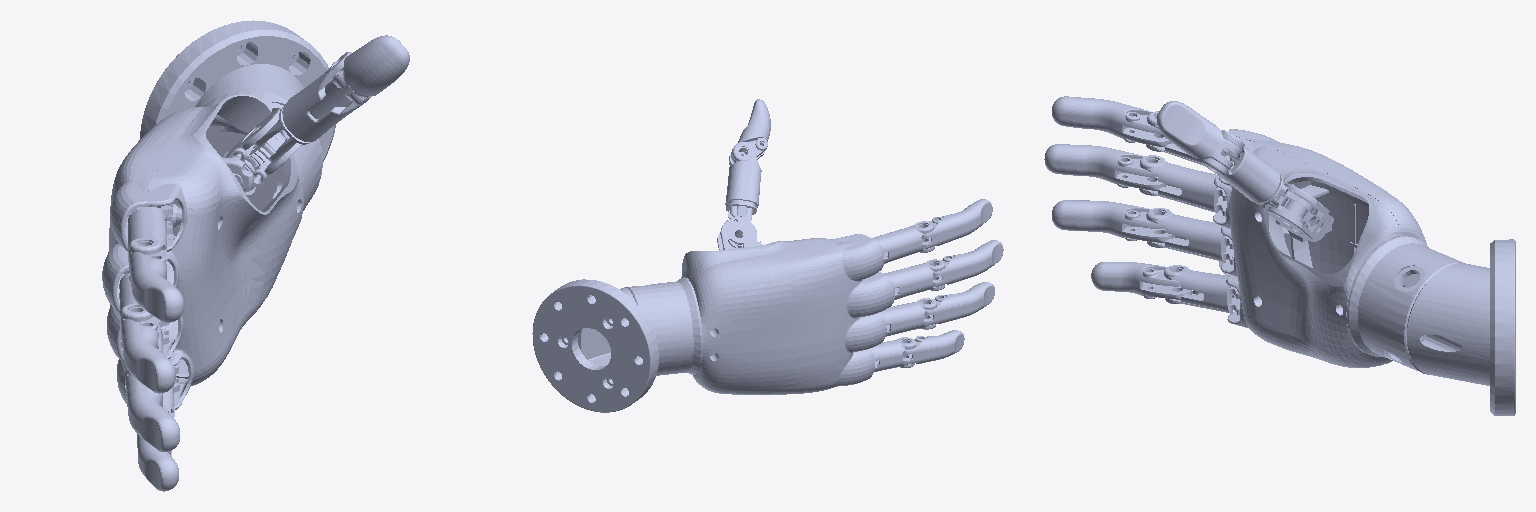
URDF robot description (aubo_i5_mechhand):
<?xml version='1.0' encoding='utf-8'?>
<robot name="aubo_i5_mechhand">
  <link name="base_link">
    <inertial>
      <origin xyz="-1.4795E-13 0.0015384 0.020951" rpy="0 0 0" />
      <mass value="0.83419" />
      <inertia ixx="0.0014414" ixy="7.8809E-15" ixz="8.5328E-16" iyy="0.0013542" iyz="-1.4364E-05" izz="0.0024659" />
    </inertial>
    <visual>
      <origin xyz="0 0 0" rpy="0 0 0" />
      <geometry>
        <mesh filename="package://aubo_description/meshes/aubo_i5/visual/base_link.DAE" />
      </geometry>
      <material name="">
        <color rgba="1 1 1 1" />
      </material>
    </visual>
    <collision>
      <origin xyz="0 0 0" rpy="0 0 0" />
      <geometry>
        <mesh filename="package://aubo_description/meshes/aubo_i5/collision/base_link.STL" />
      </geometry>
    </collision>
  </link>
  <link name="shoulder_Link">
    <inertial>
      <origin xyz="3.2508868974735E-07 0.00534955349296065 -0.00883689325611056" rpy="0 0 0" />
      <mass value="1.57658348693929" />
      <inertia ixx="0.0040640448663128" ixy="0" ixz="0" iyy="0.00392863238466817" iyz="-0.000160151642851425" izz="0.0030869857349184" />
    </inertial>
    <visual>
      <origin xyz="0 0 0" rpy="0 0 0" />
      <geometry>
        <mesh filename="package://aubo_description/meshes/aubo_i5/visual/shoulder_Link.DAE" />
      </geometry>
      <material name="">
        <color rgba="1 1 1 1" />
      </material>
    </visual>
    <collision>
      <origin xyz="0 0 0" rpy="0 0 0" />
      <geometry>
        <mesh filename="package://aubo_description/meshes/aubo_i5/collision/shoulder_Link.STL" />
      </geometry>
    </collision>
  </link>
  <joint name="shoulder_joint" type="revolute">
    <origin xyz="0 0 0.122" rpy="0 0 3.1416" />
    <parent link="base_link" />
    <child link="shoulder_Link" />
    <axis xyz="0 0 1" />
    <limit lower="-3.05" upper="3.05" effort="150" velocity="3.14" />
  </joint>
  <link name="upperArm_Link">
    <inertial>
      <origin xyz="0.203996646979614 2.01304585036544E-10 0.0127641545395984" rpy="0 0 0" />
      <mass value="4.04175782265494" />
      <inertia ixx="0.00965399211106204" ixy="0" ixz="0" iyy="0.144993869035655" iyz="0" izz="0.142607184038966" />
    </inertial>
    <visual>
      <origin xyz="0 0 0" rpy="0 0 0" />
      <geometry>
        <mesh filename="package://aubo_description/meshes/aubo_i5/visual/upperArm_Link.DAE" />
      </geometry>
      <material name="">
        <color rgba="1 1 1 1" />
      </material>
    </visual>
    <collision>
      <origin xyz="0 0 0" rpy="0 0 0" />
      <geometry>
        <mesh filename="package://aubo_description/meshes/aubo_i5/collision/upperArm_Link.STL" />
      </geometry>
    </collision>
  </link>
  <joint name="upperArm_joint" type="revolute">
    <origin xyz="0 0.1215 0" rpy="-1.5708 -1.5708 0" />
    <parent link="shoulder_Link" />
    <child link="upperArm_Link" />
    <axis xyz="0 0 1" />
    <limit lower="-3.05" upper="3.05" effort="150" velocity="3.14" />
  </joint>
  <link name="foreArm_Link">
    <inertial>
      <origin xyz="0.188922115560337 6.78882434739072E-07 0.0981026740461557" rpy="0 0 0" />
      <mass value="2.27145669098343" />
      <inertia ixx="0.00214322284946289" ixy="0" ixz="-0.00073120631553383" iyy="0.0443926090878205" iyz="0" izz="0.0441273797128365" />
    </inertial>
    <visual>
      <origin xyz="0 0 0" rpy="0 0 0" />
      <geometry>
        <mesh filename="package://aubo_description/meshes/aubo_i5/visual/foreArm_Link.DAE" />
      </geometry>
      <material name="">
        <color rgba="1 1 1 1" />
      </material>
    </visual>
    <collision>
      <origin xyz="0 0 0" rpy="0 0 0" />
      <geometry>
        <mesh filename="package://aubo_description/meshes/aubo_i5/collision/foreArm_Link.STL" />
      </geometry>
    </collision>
  </link>
  <joint name="foreArm_joint" type="revolute">
    <origin xyz="0.408 0 0" rpy="-3.1416 -5.1632E-18 -5.459E-16" />
    <parent link="upperArm_Link" />
    <child link="foreArm_Link" />
    <axis xyz="0 0 1" />
    <limit lower="-3.05" upper="3.05" effort="150" velocity="3.14" />
  </joint>
  <link name="wrist1_Link">
    <inertial>
      <origin xyz="7.54205137428592E-07 0.0062481254331257 -0.00392367464072373" rpy="0 0 0" />
      <mass value="0.500477539188764" />
      <inertia ixx="0.00071194605962081" ixy="0" ixz="0" iyy="0.00040588242872958" iyz="-2.30808694377512E-05" izz="0.000685574004861334" />
    </inertial>
    <visual>
      <origin xyz="0 0 0" rpy="0 0 0" />
      <geometry>
        <mesh filename="package://aubo_description/meshes/aubo_i5/visual/wrist1_Link.DAE" />
      </geometry>
      <material name="">
        <color rgba="1 1 1 1" />
      </material>
    </visual>
    <collision>
      <origin xyz="0 0 0" rpy="0 0 0" />
      <geometry>
        <mesh filename="package://aubo_description/meshes/aubo_i5/collision/wrist1_Link.STL" />
      </geometry>
    </collision>
  </link>
  <joint name="wrist1_joint" type="revolute">
    <origin xyz="0.376 0 0" rpy="3.1416 -1.8323E-15 1.5708" />
    <parent link="foreArm_Link" />
    <child link="wrist1_Link" />
    <axis xyz="0 0 1" />
    <limit lower="-3.05" upper="3.05" effort="150" velocity="3.14" />
  </joint>
  <link name="wrist2_Link">
    <inertial>
      <origin xyz="-7.54207620578635E-07 -0.00624812542617262 -0.00392367464115684" rpy="0 0 0" />
      <mass value="0.500477539245988" />
      <inertia ixx="0.00071194605981829" ixy="0" ixz="0" iyy="0.000405882428755442" iyz="2.30808694515886E-05" izz="0.000685574005112107" />
    </inertial>
    <visual>
      <origin xyz="0 0 0" rpy="0 0 0" />
      <geometry>
        <mesh filename="package://aubo_description/meshes/aubo_i5/visual/wrist2_Link.DAE" />
      </geometry>
      <material name="">
        <color rgba="1 1 1 1" />
      </material>
    </visual>
    <collision>
      <origin xyz="0 0 0" rpy="0 0 0" />
      <geometry>
        <mesh filename="package://aubo_description/meshes/aubo_i5/collision/wrist2_Link.STL" />
      </geometry>
    </collision>
  </link>
  <joint name="wrist2_joint" type="revolute">
    <origin xyz="0 0.1025 0" rpy="-1.5708 -1.8709E-15 -1.6653E-16" />
    <parent link="wrist1_Link" />
    <child link="wrist2_Link" />
    <axis xyz="0 0 1" />
    <limit lower="-3.05" upper="3.05" effort="150" velocity="3.14" />
  </joint>
  <link name="wrist3_Link">
    <inertial>
      <origin xyz="3.92048778449938E-10 0.000175788057281467 -0.0213294490706684" rpy="0 0 0" />
      <mass value="0.158309554874285" />
      <inertia ixx="7.31376196034769E-05" ixy="0" ixz="0" iyy="7.19528188876563E-05" iyz="0" izz="0.000108772439051422" />
    </inertial>
    <visual>
      <origin xyz="0 0 0" rpy="0 0 0" />
      <geometry>
        <mesh filename="package://aubo_description/meshes/aubo_i5/visual/wrist3_Link.DAE" />
      </geometry>
      <material name="">
        <color rgba="1 1 1 1" />
      </material>
    </visual>
    <collision>
      <origin xyz="0 0 0" rpy="0 0 0" />
      <geometry>
        <mesh filename="package://aubo_description/meshes/aubo_i5/collision/wrist3_Link.STL" />
      </geometry>
    </collision>
  </link>
  <joint name="wrist3_joint" type="revolute">
    <origin xyz="0 -0.094 0" rpy="1.5708 0 1.7907E-15" />
    <parent link="wrist2_Link" />
    <child link="wrist3_Link" />
    <axis xyz="0 0 1" />
    <limit lower="-3.05" upper="3.05" effort="150" velocity="3.14" />
  </joint>
  <link name="mechhand_base_link">
    <inertial>
      <origin xyz="-0.015063 -6.5722E-05 0.031292" rpy="0 0 0" />
      <mass value="0.069401" />
      <inertia ixx="2.3266E-05" ixy="7.9666E-07" ixz="2.1931E-06" iyy="2.0555E-05" iyz="-5.6916E-07" izz="3.0893E-05" />
    </inertial>
    <visual>
      <origin xyz="0 0 0" rpy="0 0 0" />
      <geometry>
        <mesh filename="package://MechHand_deg45_V2_URDF/meshes/base_link.STL" />
      </geometry>
      <material name="">
        <color rgba="0.79216 0.81961 0.93333 1" />
      </material>
    </visual>
    <collision>
      <origin xyz="0 0 0" rpy="0 0 0" />
      <geometry>
        <mesh filename="package://MechHand_deg45_V2_URDF/meshes/base_link.STL" />
      </geometry>
    </collision>
  </link>
  <link name="mechhand_F1_L1">
    <inertial>
      <origin xyz="-0.0039586 0.0036793 0.004467" rpy="0 0 0" />
      <mass value="0.0014107" />
      <inertia ixx="8.1067E-08" ixy="2.2203E-08" ixz="-3.8302E-09" iyy="7.3522E-08" iyz="4.1624E-09" izz="1.04E-07" />
    </inertial>
    <visual>
      <origin xyz="0 0 0" rpy="0 0 0" />
      <geometry>
        <mesh filename="package://MechHand_deg45_V2_URDF/meshes/F1_L1.STL" />
      </geometry>
      <material name="">
        <color rgba="0.79216 0.81961 0.93333 1" />
      </material>
    </visual>
    <collision>
      <origin xyz="0 0 0" rpy="0 0 0" />
      <geometry>
        <mesh filename="package://MechHand_deg45_V2_URDF/meshes/F1_L1.STL" />
      </geometry>
    </collision>
  </link>
  <joint name="mechhand_F1_J1" type="revolute">
    <origin xyz="-0.034849 0.023663 0.070578" rpy="0.78612 -0.041061 -1.5901" />
    <parent link="mechhand_base_link" />
    <child link="mechhand_F1_L1" />
    <axis xyz="0 0 1" />
    <limit lower="-3.1416" upper="3.1416" effort="5.0" velocity="3.0" />
  </joint>
  <link name="mechhand_F1_L2">
    <inertial>
      <origin xyz="0.019719 0.0054866 0.0059642" rpy="0 0 0" />
      <mass value="0.0031477" />
      <inertia ixx="1.1339E-07" ixy="-5.9344E-08" ixz="-7.1608E-12" iyy="3.9094E-07" iyz="-2.5455E-12" izz="3.9711E-07" />
    </inertial>
    <visual>
      <origin xyz="0 0 0" rpy="0 0 0" />
      <geometry>
        <mesh filename="package://MechHand_deg45_V2_URDF/meshes/F1_L2.STL" />
      </geometry>
      <material name="">
        <color rgba="0.79216 0.81961 0.93333 1" />
      </material>
    </visual>
    <collision>
      <origin xyz="0 0 0" rpy="0 0 0" />
      <geometry>
        <mesh filename="package://MechHand_deg45_V2_URDF/meshes/F1_L2.STL" />
      </geometry>
    </collision>
  </link>
  <joint name="mechhand_F1_J2" type="revolute">
    <origin xyz="-0.011988 0.0036468 0.00381" rpy="1.5708 -0.06091 2.3469" />
    <parent link="mechhand_F1_L1" />
    <child link="mechhand_F1_L2" />
    <axis xyz="0 0 1" />
    <limit lower="-3.1416" upper="3.1416" effort="5.0" velocity="3.0" />
  </joint>
  <link name="mechhand_F1_L3">
    <inertial>
      <origin xyz="0.010592 0.0077458 0.006601" rpy="0 0 0" />
      <mass value="0.0027429" />
      <inertia ixx="9.7739E-08" ixy="-6.3646E-08" ixz="8.1683E-12" iyy="1.8096E-07" iyz="-1.5923E-12" izz="2.0784E-07" />
    </inertial>
    <visual>
      <origin xyz="0 0 0" rpy="0 0 0" />
      <geometry>
        <mesh filename="package://MechHand_deg45_V2_URDF/meshes/F1_L3.STL" />
      </geometry>
      <material name="">
        <color rgba="0.79216 0.81961 0.93333 1" />
      </material>
    </visual>
    <collision>
      <origin xyz="0 0 0" rpy="0 0 0" />
      <geometry>
        <mesh filename="package://MechHand_deg45_V2_URDF/meshes/F1_L3.STL" />
      </geometry>
    </collision>
  </link>
  <joint name="mechhand_F1_J3" type="revolute">
    <origin xyz="0.039449 0.0081057 -0.0006" rpy="0 0 0" />
    <parent link="mechhand_F1_L2" />
    <child link="mechhand_F1_L3" />
    <axis xyz="0 0 1" />
    <limit lower="-3.1416" upper="3.1416" effort="5.0" velocity="3.0" />
  </joint>
  <link name="mechhand_F2_L1">
    <inertial>
      <origin xyz="0.01535 -0.0025396 0.0039829" rpy="0 0 0" />
      <mass value="0.0025565" />
      <inertia ixx="5.8289E-08" ixy="3.8292E-08" ixz="5.9035E-13" iyy="2.5708E-07" iyz="6.4758E-12" izz="2.4721E-07" />
    </inertial>
    <visual>
      <origin xyz="0 0 0" rpy="0 0 0" />
      <geometry>
        <mesh filename="package://MechHand_deg45_V2_URDF/meshes/F2_L1.STL" />
      </geometry>
      <material name="">
        <color rgba="0.79216 0.81961 0.93333 1" />
      </material>
    </visual>
    <collision>
      <origin xyz="0 0 0" rpy="0 0 0" />
      <geometry>
        <mesh filename="package://MechHand_deg45_V2_URDF/meshes/F2_L1.STL" />
      </geometry>
    </collision>
  </link>
  <joint name="mechhand_F2_J1" type="revolute">
    <origin xyz="-0.082731 0.030793 0.097776" rpy="-1.4859 -0.7819 3.0431" />
    <parent link="mechhand_base_link" />
    <child link="mechhand_F2_L1" />
    <axis xyz="0 0 -1" />
    <limit lower="-3.1416" upper="3.1416" effort="5.0" velocity="3.0" />
  </joint>
  <link name="mechhand_F2_L2">
    <inertial>
      <origin xyz="0.017888 -0.0070454 0.0060874" rpy="0 0 0" />
      <mass value="0.0032121" />
      <inertia ixx="1.2784E-07" ixy="1.4995E-07" ixz="-1.0416E-11" iyy="3.4885E-07" iyz="-2.062E-12" izz="4.2269E-07" />
    </inertial>
    <visual>
      <origin xyz="0 0 0" rpy="0 0 0" />
      <geometry>
        <mesh filename="package://MechHand_deg45_V2_URDF/meshes/F2_L2.STL" />
      </geometry>
      <material name="">
        <color rgba="0.79216 0.81961 0.93333 1" />
      </material>
    </visual>
    <collision>
      <origin xyz="0 0 0" rpy="0 0 0" />
      <geometry>
        <mesh filename="package://MechHand_deg45_V2_URDF/meshes/F2_L2.STL" />
      </geometry>
    </collision>
  </link>
  <joint name="mechhand_F2_J2" type="revolute">
    <origin xyz="0.034836 -0.0065719 -0.00214" rpy="0 0 0" />
    <parent link="mechhand_F2_L1" />
    <child link="mechhand_F2_L2" />
    <axis xyz="0 0 -1" />
    <limit lower="-3.1416" upper="3.1416" effort="5.0" velocity="3.0" />
  </joint>
  <link name="mechhand_F3_L1">
    <inertial>
      <origin xyz="0.01535 -0.0025396 0.0039829" rpy="0 0 0" />
      <mass value="0.0025565" />
      <inertia ixx="5.8288E-08" ixy="3.8292E-08" ixz="6.2125E-13" iyy="2.5708E-07" iyz="6.5466E-12" izz="2.4721E-07" />
    </inertial>
    <visual>
      <origin xyz="0 0 0" rpy="0 0 0" />
      <geometry>
        <mesh filename="package://MechHand_deg45_V2_URDF/meshes/F3_L1.STL" />
      </geometry>
      <material name="">
        <color rgba="0.79216 0.81961 0.93333 1" />
      </material>
    </visual>
    <collision>
      <origin xyz="0 0 0" rpy="0 0 0" />
      <geometry>
        <mesh filename="package://MechHand_deg45_V2_URDF/meshes/F3_L1.STL" />
      </geometry>
    </collision>
  </link>
  <joint name="mechhand_F3_J1" type="revolute">
    <origin xyz="-0.087072 0.013121 0.10038" rpy="-1.5322 -0.78477 3.1087" />
    <parent link="mechhand_base_link" />
    <child link="mechhand_F3_L1" />
    <axis xyz="0 0 -1" />
    <limit lower="-3.1416" upper="3.1416" effort="5.0" velocity="3.0" />
  </joint>
  <link name="mechhand_F3_L2">
    <inertial>
      <origin xyz="0.017888 -0.0070454 0.0060874" rpy="0 0 0" />
      <mass value="0.0032121" />
      <inertia ixx="1.2784E-07" ixy="1.4995E-07" ixz="-1.0439E-11" iyy="3.4885E-07" iyz="-2.0425E-12" izz="4.2269E-07" />
    </inertial>
    <visual>
      <origin xyz="0 0 0" rpy="0 0 0" />
      <geometry>
        <mesh filename="package://MechHand_deg45_V2_URDF/meshes/F3_L2.STL" />
      </geometry>
      <material name="">
        <color rgba="0.79216 0.81961 0.93333 1" />
      </material>
    </visual>
    <collision>
      <origin xyz="0 0 0" rpy="0 0 0" />
      <geometry>
        <mesh filename="package://MechHand_deg45_V2_URDF/meshes/F3_L2.STL" />
      </geometry>
    </collision>
  </link>
  <joint name="mechhand_F3_J2" type="revolute">
    <origin xyz="0.034836 -0.0065719 -0.00214" rpy="0 0 0" />
    <parent link="mechhand_F3_L1" />
    <child link="mechhand_F3_L2" />
    <axis xyz="0 0 -1" />
    <limit lower="-3.1416" upper="3.1416" effort="5.0" velocity="3.0" />
  </joint>
  <link name="mechhand_F4_L1">
    <inertial>
      <origin xyz="-0.01535 0.0025395 0.0039829" rpy="0 0 0" />
      <mass value="0.0025565" />
      <inertia ixx="5.8289E-08" ixy="3.8293E-08" ixz="-5.433E-13" iyy="2.5708E-07" iyz="-6.4736E-12" izz="2.4721E-07" />
    </inertial>
    <visual>
      <origin xyz="0 0 0" rpy="0 0 0" />
      <geometry>
        <mesh filename="package://MechHand_deg45_V2_URDF/meshes/F4_L1.STL" />
      </geometry>
      <material name="">
        <color rgba="0.79216 0.81961 0.93333 1" />
      </material>
    </visual>
    <collision>
      <origin xyz="0 0 0" rpy="0 0 0" />
      <geometry>
        <mesh filename="package://MechHand_deg45_V2_URDF/meshes/F4_L1.STL" />
      </geometry>
    </collision>
  </link>
  <joint name="mechhand_F4_J1" type="revolute">
    <origin xyz="-0.084217 -0.0045472 0.097909" rpy="1.5787 0.78549 0.032906" />
    <parent link="mechhand_base_link" />
    <child link="mechhand_F4_L1" />
    <axis xyz="0 0 -1" />
    <limit lower="-3.1416" upper="3.1416" effort="5.0" velocity="3.0" />
  </joint>
  <link name="mechhand_F4_L2">
    <inertial>
      <origin xyz="-0.017888 0.0070454 0.0060874" rpy="0 0 0" />
      <mass value="0.0032121" />
      <inertia ixx="1.2784E-07" ixy="1.4995E-07" ixz="9.9986E-12" iyy="3.4884E-07" iyz="2.0466E-12" izz="4.2269E-07" />
    </inertial>
    <visual>
      <origin xyz="0 0 0" rpy="0 0 0" />
      <geometry>
        <mesh filename="package://MechHand_deg45_V2_URDF/meshes/F4_L2.STL" />
      </geometry>
      <material name="">
        <color rgba="0.79216 0.81961 0.93333 1" />
      </material>
    </visual>
    <collision>
      <origin xyz="0 0 0" rpy="0 0 0" />
      <geometry>
        <mesh filename="package://MechHand_deg45_V2_URDF/meshes/F4_L2.STL" />
      </geometry>
    </collision>
  </link>
  <joint name="mechhand_F4_J2" type="revolute">
    <origin xyz="-0.034836 0.0065719 -0.00214" rpy="0 0 0" />
    <parent link="mechhand_F4_L1" />
    <child link="mechhand_F4_L2" />
    <axis xyz="0 0 -1" />
    <limit lower="-3.1416" upper="3.1416" effort="5.0" velocity="3.0" />
  </joint>
  <link name="mechhand_F5_L1">
    <inertial>
      <origin xyz="-0.015073 0.0025712 0.0039805" rpy="0 0 0" />
      <mass value="0.0019126" />
      <inertia ixx="2.1786E-08" ixy="2.3665E-08" ixz="6.8302E-12" iyy="1.4718E-07" iyz="-3.7826E-12" izz="1.5958E-07" />
    </inertial>
    <visual>
      <origin xyz="0 0 0" rpy="0 0 0" />
      <geometry>
        <mesh filename="package://MechHand_deg45_V2_URDF/meshes/F5_L1.STL" />
      </geometry>
      <material name="">
        <color rgba="0.79216 0.81961 0.93333 1" />
      </material>
    </visual>
    <collision>
      <origin xyz="0 0 0" rpy="0 0 0" />
      <geometry>
        <mesh filename="package://MechHand_deg45_V2_URDF/meshes/F5_L1.STL" />
      </geometry>
    </collision>
  </link>
  <joint name="mechhand_F5_J1" type="revolute">
    <origin xyz="-0.079656 -0.02214 0.095853" rpy="1.6252 0.78404 0.098667" />
    <parent link="mechhand_base_link" />
    <child link="mechhand_F5_L1" />
    <axis xyz="0 0 -1" />
    <limit lower="-3.1416" upper="3.1416" effort="5.0" velocity="3.0" />
  </joint>
  <link name="mechhand_F5_L2">
    <inertial>
      <origin xyz="-0.014507 0.0046646 0.0063" rpy="0 0 0" />
      <mass value="0.0021676" />
      <inertia ixx="6.0083E-08" ixy="6.2867E-08" ixz="3.1417E-12" iyy="1.9102E-07" iyz="-5.5636E-13" izz="2.1354E-07" />
    </inertial>
    <visual>
      <origin xyz="0 0 0" rpy="0 0 0" />
      <geometry>
        <mesh filename="package://MechHand_deg45_V2_URDF/meshes/F5_L2.STL" />
      </geometry>
      <material name="">
        <color rgba="0.79216 0.81961 0.93333 1" />
      </material>
    </visual>
    <collision>
      <origin xyz="0 0 0" rpy="0 0 0" />
      <geometry>
        <mesh filename="package://MechHand_deg45_V2_URDF/meshes/F5_L2.STL" />
      </geometry>
    </collision>
  </link>
  <joint name="mechhand_F5_J2" type="revolute">
    <origin xyz="-0.029945 0.0056487 -0.00202" rpy="0 0 0" />
    <parent link="mechhand_F5_L1" />
    <child link="mechhand_F5_L2" />
    <axis xyz="0 0 -1" />
    <limit lower="-3.1416" upper="3.1416" effort="5.0" velocity="3.0" />
  </joint>
  <joint name="aubo_wrist3_to_mechhand_base" type="fixed">
    <origin xyz="0 0 0" rpy="0 0 0" />
    <parent link="wrist3_Link" />
    <child link="mechhand_base_link" />
  </joint>
</robot>

--- What the picture shows (computed from the rendered views, not written in the file) ---
Views: 3 orthographic renders of the robot side by side, from view 1: azimuth 30°, elevation 25°; view 2: azimuth 150°, elevation 25°; view 3: azimuth 270°, elevation 25°.
Robot: aubo_i5_mechhand — 19 links, 18 joints (17 revolute, 1 fixed); root link base_link; default pose: every joint at zero.
Visible links, largest first — view 1: mechhand_base_link, mechhand_F1_L2, mechhand_F1_L3, mechhand_F3_L2, mechhand_F2_L2, mechhand_F4_L2, mechhand_F2_L1, mechhand_F5_L2, mechhand_F1_L1, mechhand_F3_L1; view 2: mechhand_base_link, mechhand_F1_L2, mechhand_F2_L2, mechhand_F3_L2, mechhand_F4_L2, mechhand_F2_L1, mechhand_F5_L2, mechhand_F3_L1, mechhand_F4_L1, mechhand_F1_L3, mechhand_F5_L1, mechhand_F1_L1; view 3: mechhand_base_link, mechhand_F3_L2, mechhand_F2_L2, mechhand_F4_L2, mechhand_F1_L2, mechhand_F1_L3, mechhand_F3_L1, mechhand_F4_L1, mechhand_F5_L2, mechhand_F5_L1, mechhand_F1_L1, mechhand_F2_L1.
Boxes of the visible links, x1,y1,x2,y2 form: mechhand_base_link: (102, 20, 335, 409); mechhand_F1_L2: (247, 52, 371, 166); mechhand_F1_L3: (332, 35, 409, 104); mechhand_F3_L2: (121, 317, 175, 393); mechhand_F2_L2: (129, 250, 183, 322); mechhand_F4_L2: (125, 371, 179, 451); mechhand_F2_L1: (128, 203, 172, 281); mechhand_F5_L2: (137, 434, 178, 491); mechhand_F1_L1: (222, 109, 301, 192); mechhand_F3_L1: (119, 270, 158, 345); mechhand_base_link: (532, 234, 894, 412); mechhand_F1_L2: (725, 142, 761, 247); mechhand_F2_L2: (921, 199, 992, 248); mechhand_F3_L2: (933, 240, 1003, 286); mechhand_F4_L2: (924, 282, 994, 325); mechhand_F2_L1: (872, 221, 934, 263); mechhand_F5_L2: (903, 330, 964, 364); mechhand_F3_L1: (884, 259, 944, 299); mechhand_F4_L1: (880, 298, 936, 336); mechhand_F1_L3: (729, 99, 770, 164); mechhand_F5_L1: (870, 337, 915, 371); mechhand_F1_L1: (717, 217, 757, 249); mechhand_base_link: (1213, 129, 1515, 415); mechhand_F3_L2: (1044, 144, 1165, 190); mechhand_F2_L2: (1052, 96, 1171, 146); mechhand_F4_L2: (1052, 200, 1173, 242); mechhand_F1_L2: (1202, 130, 1313, 224); mechhand_F1_L3: (1157, 101, 1240, 169); mechhand_F3_L1: (1139, 155, 1226, 216); mechhand_F4_L1: (1146, 208, 1233, 264); mechhand_F5_L2: (1091, 262, 1191, 299); mechhand_F5_L1: (1164, 265, 1239, 314); mechhand_F1_L1: (1267, 183, 1333, 241); mechhand_F2_L1: (1146, 111, 1233, 169).
Bounding box of the posed robot: 0.154 × 0.1683 × 0.116 m (x, y, z).
12 mesh visuals loaded from 19 distinct referenced files (12 binary STL); not drawn: 7 (reference not matched to a file when rendering).
